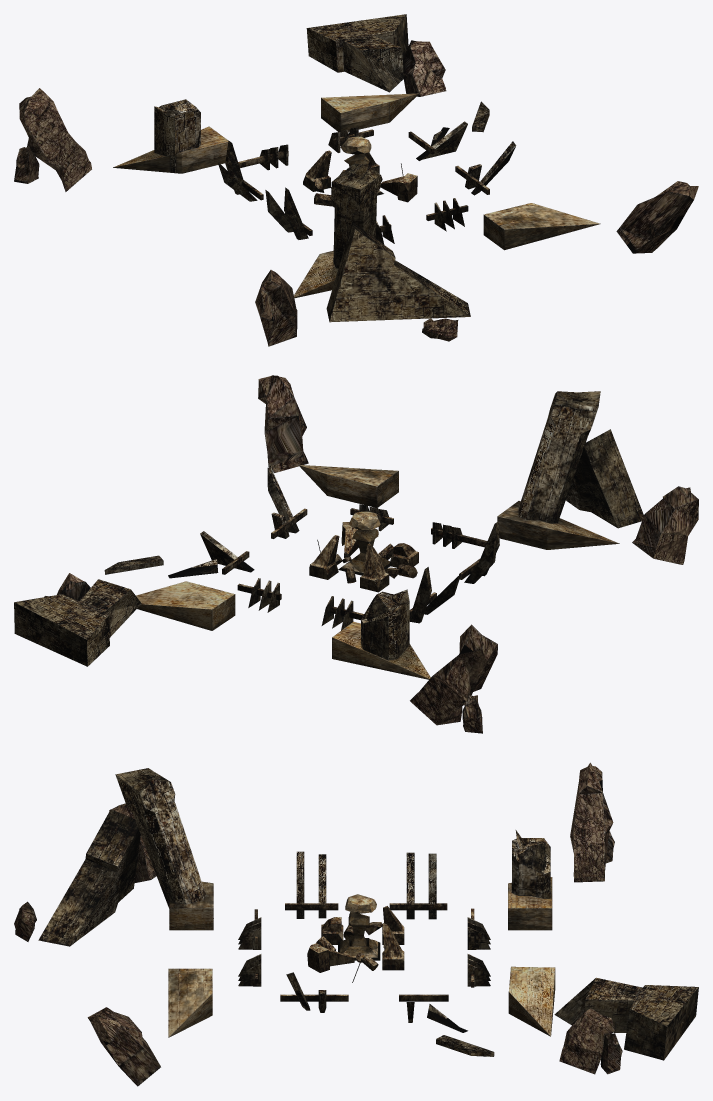
File: ruined.gltf
3 renders of one model, top to bottom at view 1: azimuth 30°, elevation 25°; view 2: azimuth 150°, elevation 25°; view 3: azimuth 270°, elevation 25°, orthographic. The views are drawn at different scales.
Parts seen in each view (by area): view 1: 2, 1, 6, 3, 5; view 2: 2, 1, 6, 3, 5; view 3: 2, 1, 6, 3, 5.
Part boxes in pixels (box(x1,y1,x2,y2)): 2: box(154, 14, 516, 322); 1: box(14, 40, 698, 346); 6: box(113, 93, 600, 298); 3: box(238, 129, 489, 235); 5: box(330, 136, 383, 195); 2: box(14, 391, 643, 666); 1: box(44, 375, 698, 733); 6: box(136, 464, 619, 679); 3: box(222, 508, 487, 620); 5: box(338, 511, 391, 575); 2: box(38, 768, 698, 1060); 1: box(14, 762, 622, 1086); 6: box(168, 877, 555, 1037); 3: box(254, 903, 474, 1001); 5: box(338, 894, 380, 960).
Size of the model in its own units: 3928 by 1258 by 4825.
5 materials, 5 textured.
